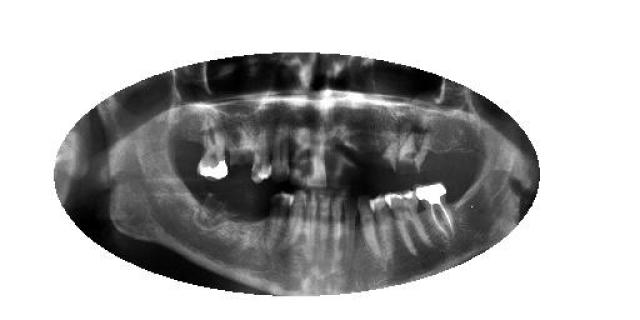Cavity: (399, 133, 430, 175), (215, 195, 244, 225), (202, 189, 222, 221), (382, 140, 398, 176)
Fillings: (199, 128, 230, 182)
Implant: (415, 180, 456, 241)
